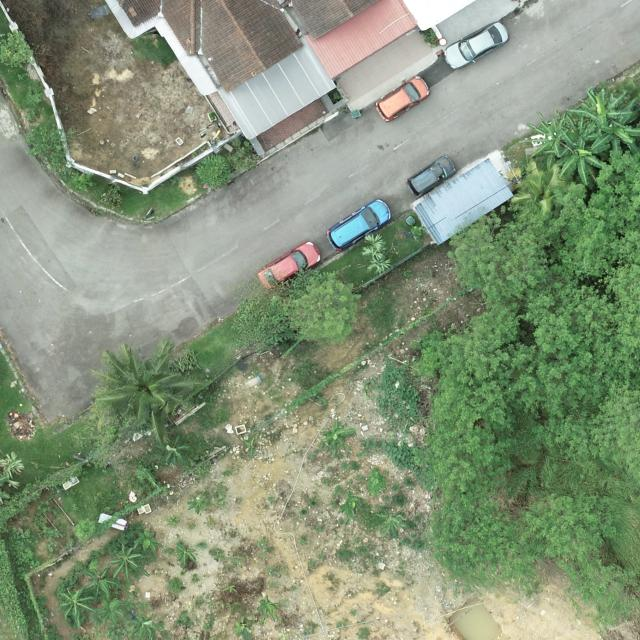Tree: (418, 304, 540, 502), (519, 278, 622, 422), (547, 148, 640, 275), (448, 203, 550, 305), (89, 341, 186, 445), (230, 267, 321, 352), (70, 384, 136, 466), (285, 272, 358, 346), (558, 114, 608, 187), (24, 124, 89, 179), (587, 89, 640, 156), (525, 108, 579, 170), (566, 85, 632, 128), (56, 588, 98, 629), (319, 418, 355, 459), (0, 29, 34, 68), (360, 234, 392, 275), (109, 542, 141, 582), (82, 566, 122, 598), (196, 154, 230, 188), (230, 138, 262, 172), (155, 435, 190, 464), (377, 508, 407, 540), (96, 597, 126, 626), (256, 594, 282, 625), (133, 530, 163, 552), (70, 170, 97, 192), (176, 544, 197, 569), (187, 496, 208, 514), (243, 437, 256, 458)
